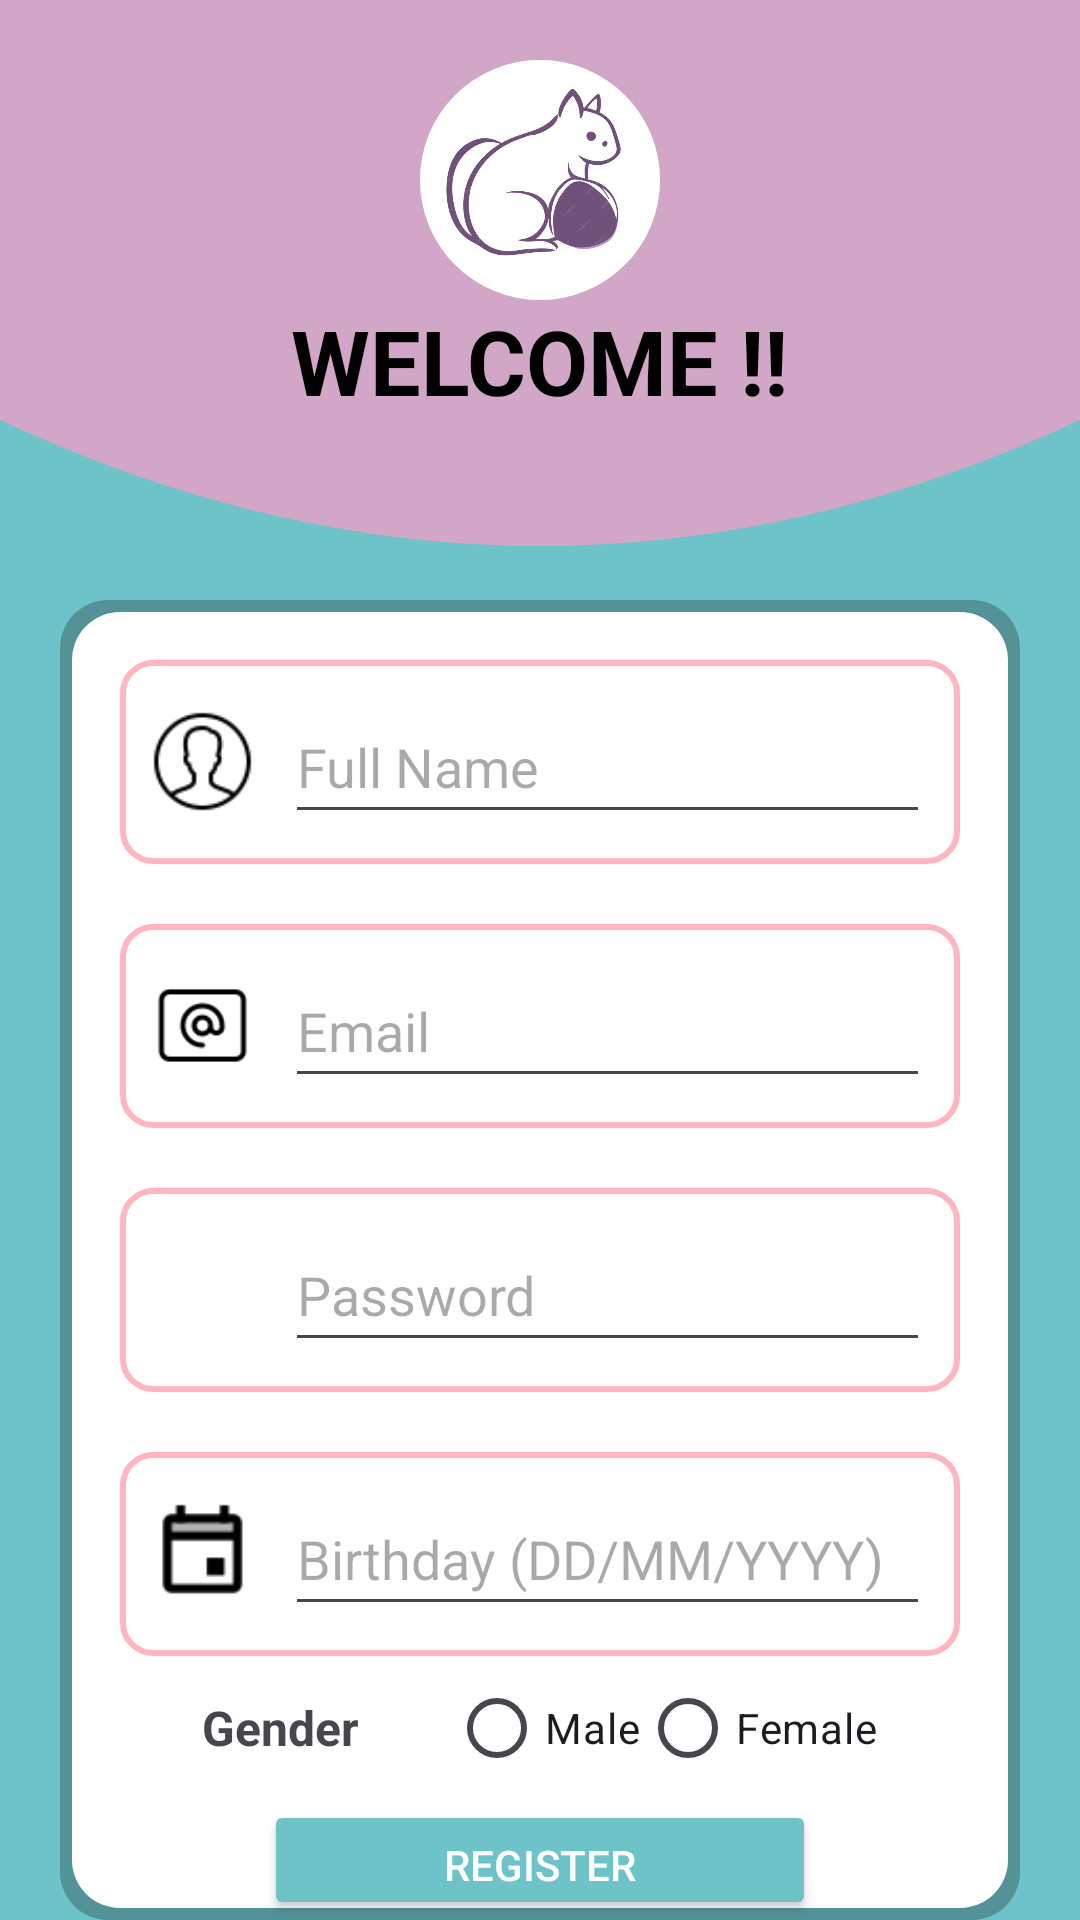

Where icons sit on this 1080 × 1920 app screen, as (x1, y1, x2, y2):
calendar: (162, 1504, 243, 1594)
user: (153, 712, 252, 811)
